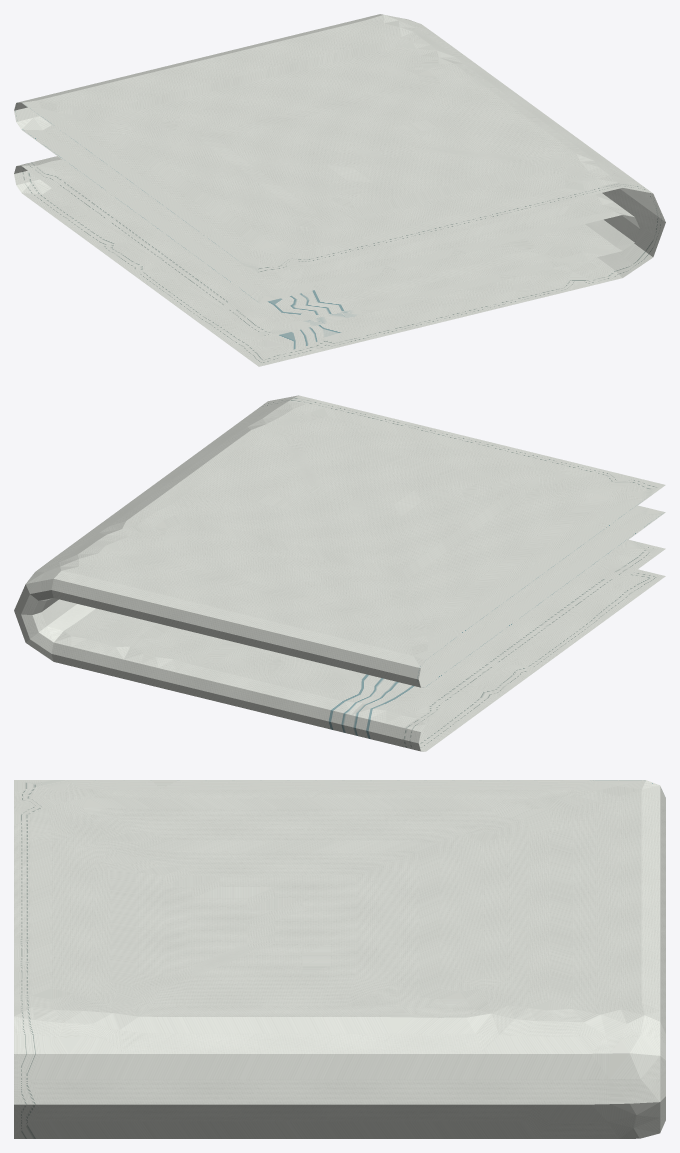
The model's file is task-09.glb.
3 renders of one model, top to bottom at view 1: azimuth 30°, elevation 25°; view 2: azimuth 150°, elevation 25°; view 3: azimuth 270°, elevation 25°, orthographic. The views are drawn at different scales.
Parts seen in each view (by area): view 1: blanket__1; view 2: blanket__1; view 3: blanket__1.
Boxes of the visible parts, x1,y1,x2,y2 form: blanket__1: (14,14,665,366); blanket__1: (14,395,665,751); blanket__1: (14,780,665,1138).
Bounding box in the file's own units: 0.3772 × 0.08 × 0.3932.
Materials: 1 (1 with a texture image).
